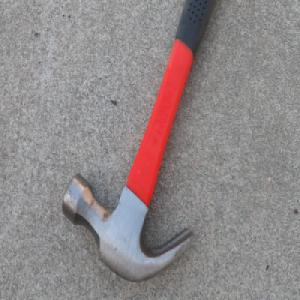Hammer: (61, 0, 220, 286)
